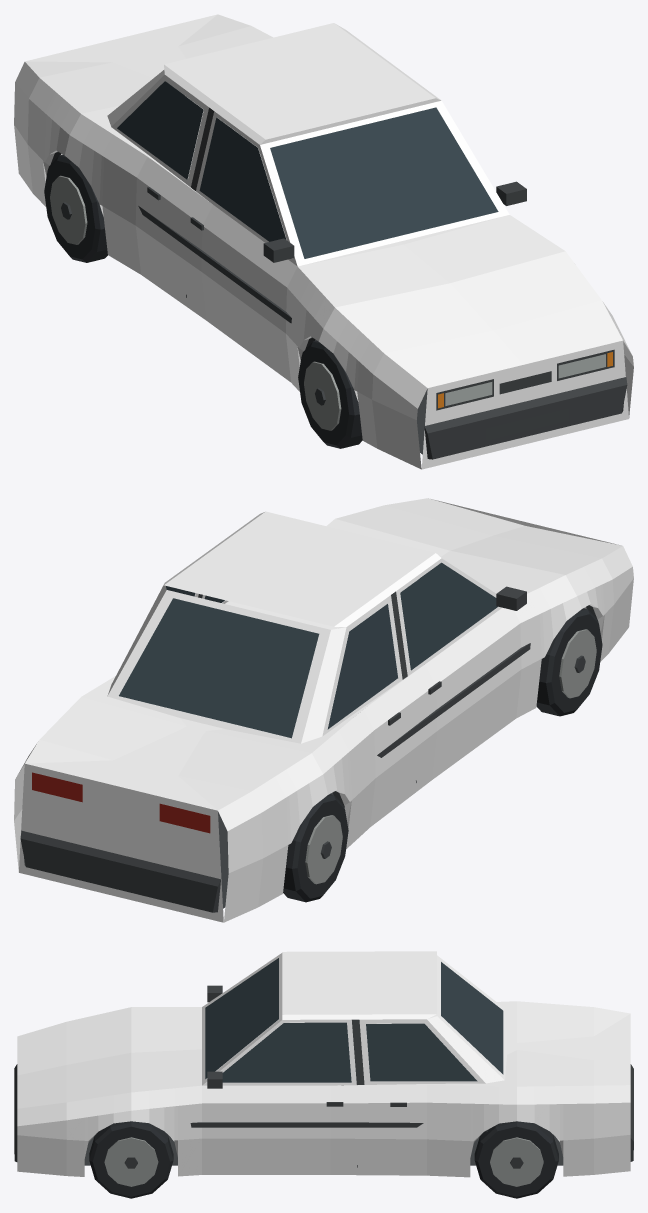
Rendered from hoshino_kaminari.glb.
3 views of the same model, one above another, from view 1: azimuth 30°, elevation 25°; view 2: azimuth 150°, elevation 25°; view 3: azimuth 270°, elevation 25° (orthographic). The views are drawn at different scales.
Parts seen in each view (by area): view 1: hoshino_kaminari; view 2: hoshino_kaminari; view 3: hoshino_kaminari.
Boxes of the visible parts, bbox=[...] form: hoshino_kaminari: bbox=[14, 14, 633, 469]; hoshino_kaminari: bbox=[14, 498, 633, 922]; hoshino_kaminari: bbox=[14, 951, 633, 1198].
Bounding box in the file's own units: 1.8 × 1.47 × 4.84.
8 materials, 1 textured.
